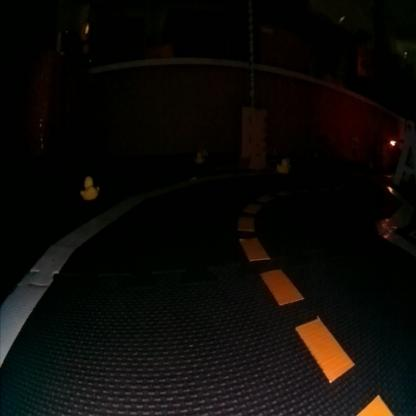Duckie: (81, 176, 100, 200), (278, 160, 288, 172), (198, 154, 202, 162)
